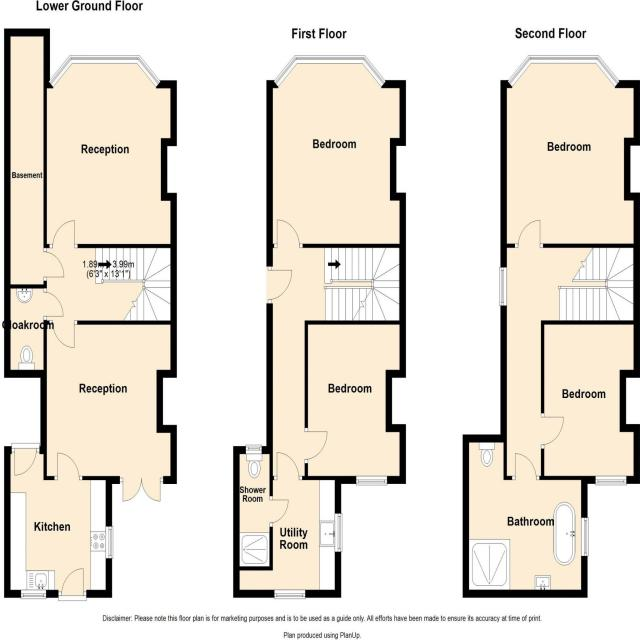DOOR: (119, 476, 163, 503), (57, 567, 87, 602), (11, 443, 40, 476), (268, 266, 292, 304), (304, 427, 328, 464), (48, 220, 78, 249), (273, 219, 303, 248), (53, 452, 83, 480), (541, 413, 564, 449), (49, 320, 78, 348), (273, 452, 302, 480), (514, 220, 543, 248), (511, 453, 540, 480), (43, 247, 65, 281), (43, 287, 63, 321), (269, 495, 290, 527)
ROOM: (266, 54, 406, 248), (500, 54, 640, 248), (43, 54, 177, 248), (39, 320, 177, 504), (4, 442, 112, 602), (304, 320, 406, 485), (541, 320, 640, 486)
WINDOW: (48, 54, 161, 89), (507, 54, 620, 88), (273, 55, 387, 88), (334, 512, 343, 553), (594, 475, 627, 486), (581, 515, 589, 558), (273, 589, 306, 599), (355, 476, 388, 486), (499, 266, 507, 307), (105, 525, 114, 559), (20, 589, 47, 600)
